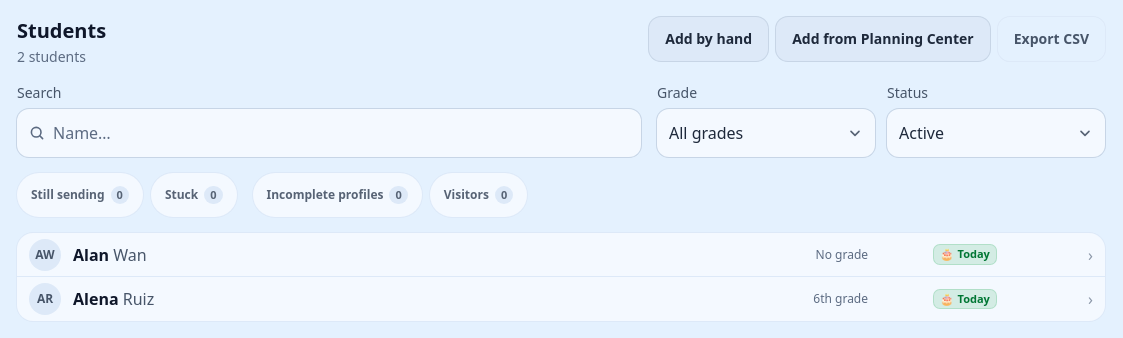
Test case: StudentsPage grade › keeps them out of a grade the filter asked for
The width and height of the screenshot is (1123, 338).
Select "6th" in the dropdown named "All grades" at {"x": 766, "y": 133}, box [657,109,875,157]
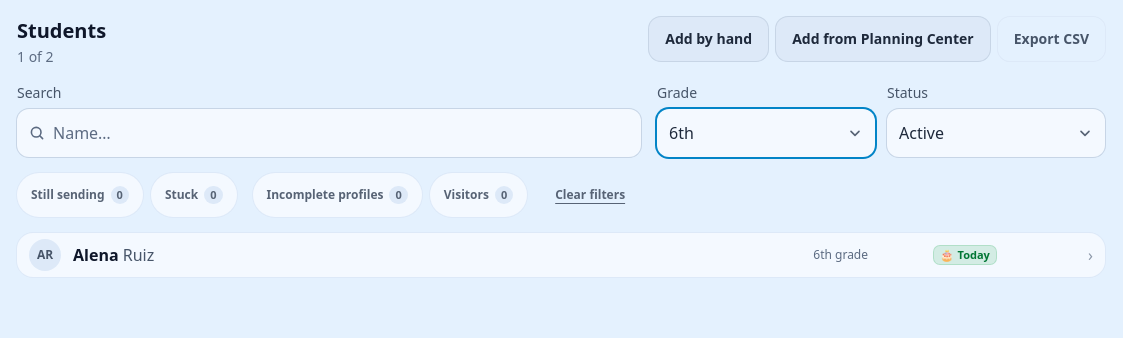
Expected: the link named "Alena" is shown, [17,233,1105,277]
Now the link "Alan Wan" is gone
